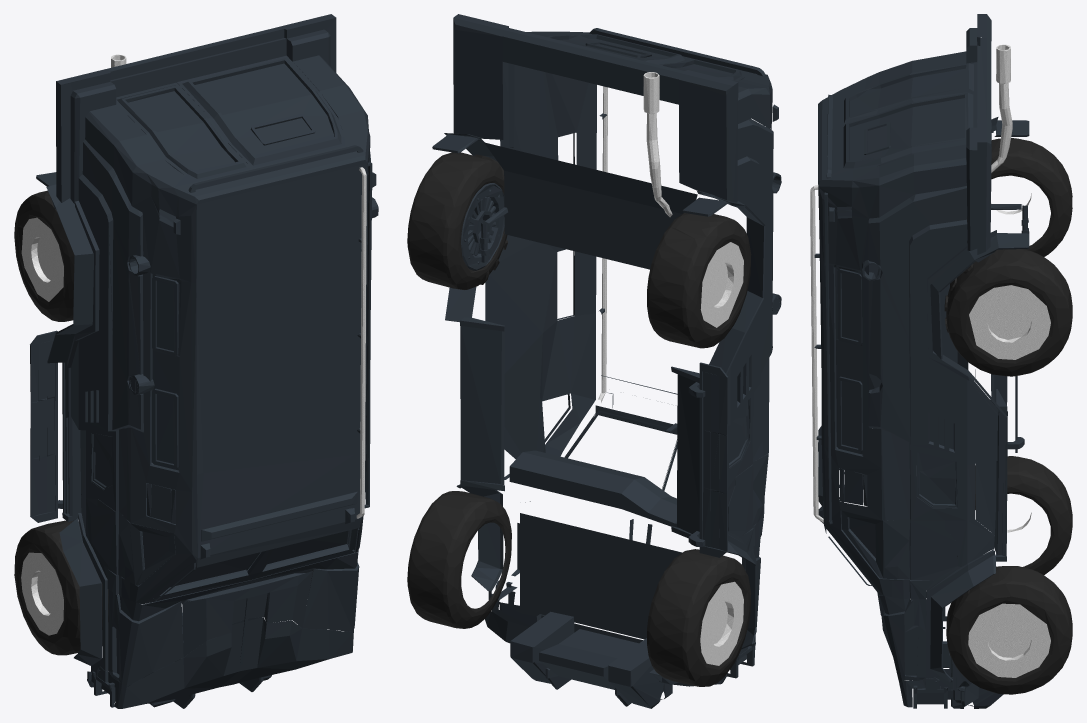
Rendered from fangbaoche.glb.
3 renders of one model, left to right at view 1: azimuth 30°, elevation 25°; view 2: azimuth 150°, elevation 25°; view 3: azimuth 270°, elevation 25°, orthographic. The views are drawn at different scales.
Visible parts, largest first — view 1: fangbaoceh; view 2: fangbaoceh; view 3: fangbaoceh.
Boxes of the visible parts, x1=… form: fangbaoceh: x1=14, y1=14, x2=378, y2=708; fangbaoceh: x1=407, y1=14, x2=781, y2=708; fangbaoceh: x1=810, y1=14, x2=1072, y2=708.
Bounding box in the file's own units: 2.34 × 4.87 × 1.91.
3 materials, 3 textured.
